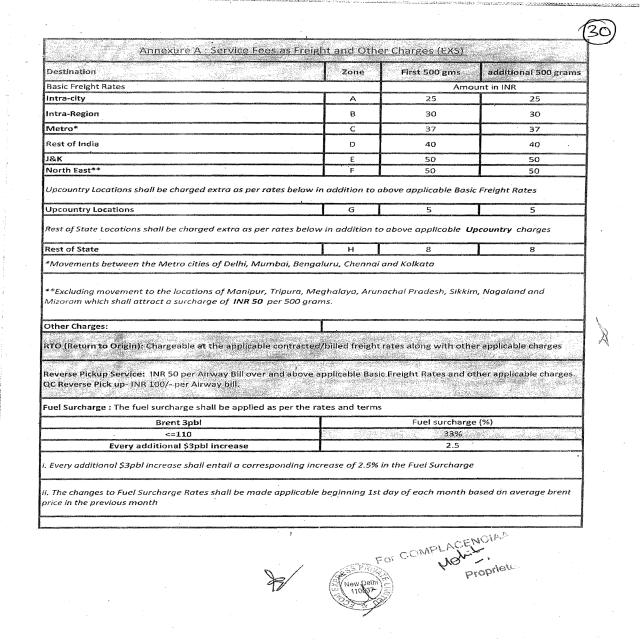page-number: (580, 6, 640, 57)
